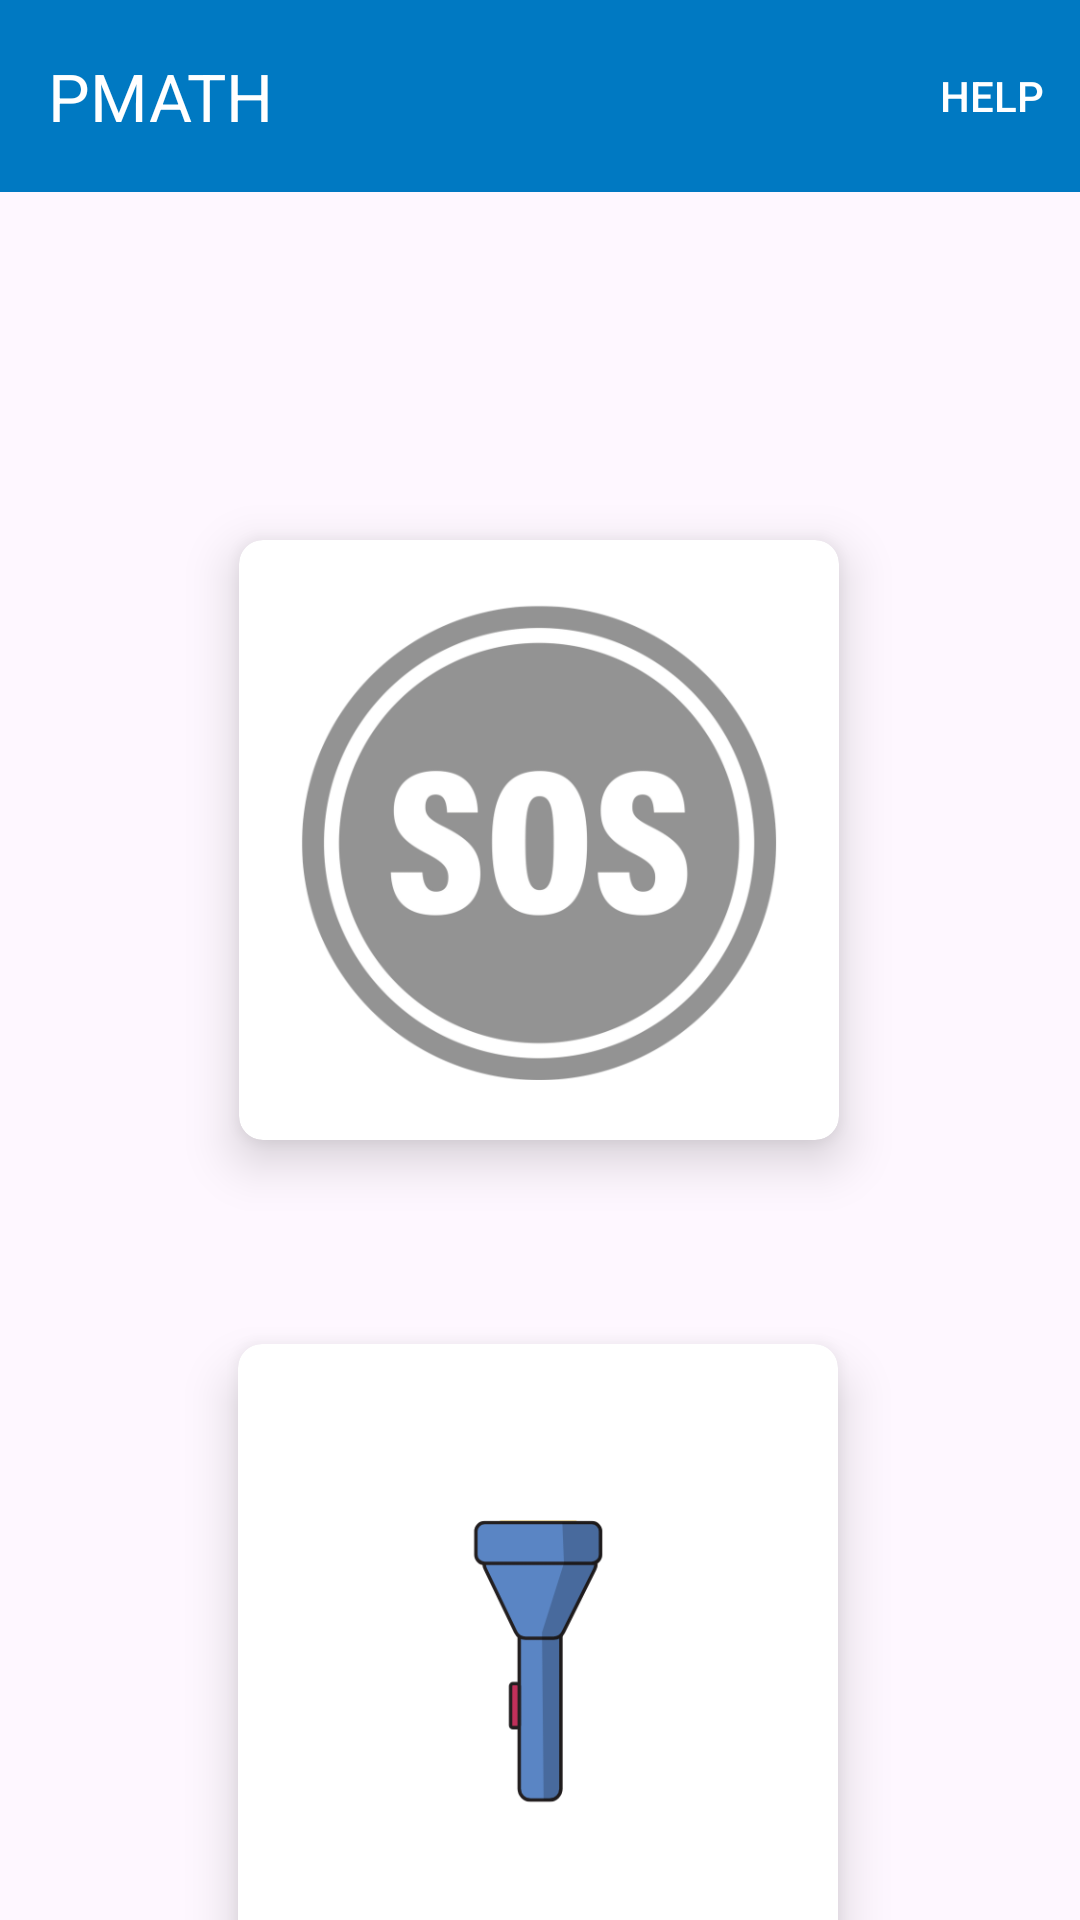

Icons on this 1080px x 1920px Android screen, each with the point to tap as point (x, y):
flash of: point (538, 1661)
